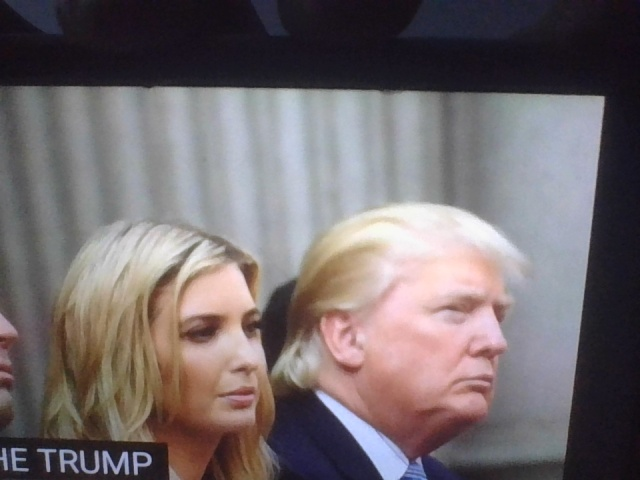fake: (331, 176, 531, 459), (129, 221, 287, 445)
